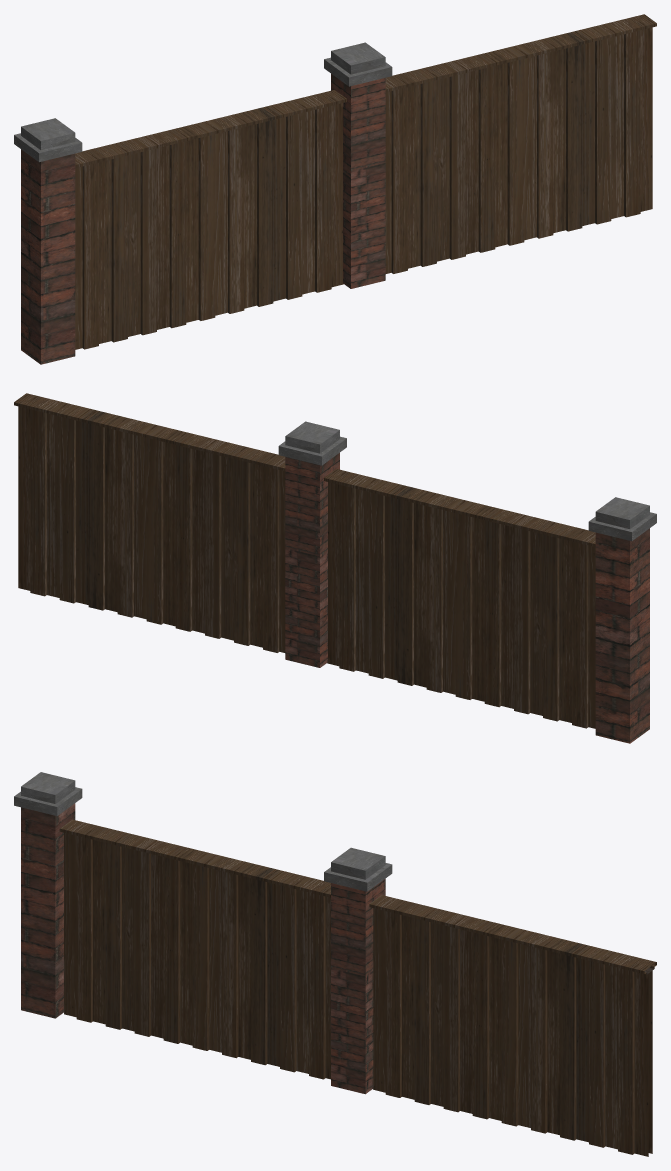
The model's file is GardCaramida.fbx.
The picture shows the model from 3 angles, top to bottom: view 1: azimuth 30°, elevation 25°; view 2: azimuth 150°, elevation 25°; view 3: azimuth 330°, elevation 25°; orthographic projection.
Parts seen in each view (by area): view 1: polySurface10.001; view 2: polySurface10.001; view 3: polySurface10.001.
Part boxes in pixels (x1,y1,x2,y2): polySurface10.001: [14, 14, 656, 364]; polySurface10.001: [14, 393, 656, 743]; polySurface10.001: [14, 772, 656, 1156].
Size of the model in its own units: 716 by 246 by 49.69.
Materials: 1 (1 with a texture image).
